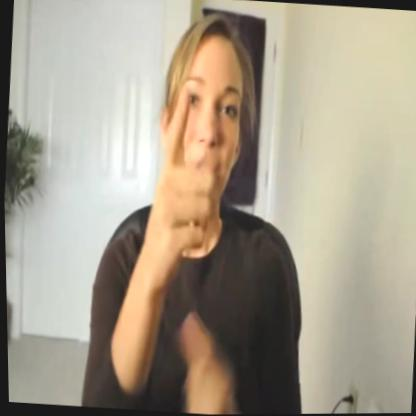NiceToMeetYou: (134, 76, 278, 304)
